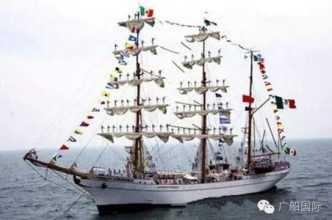fanchuan: (20, 10, 301, 209)
